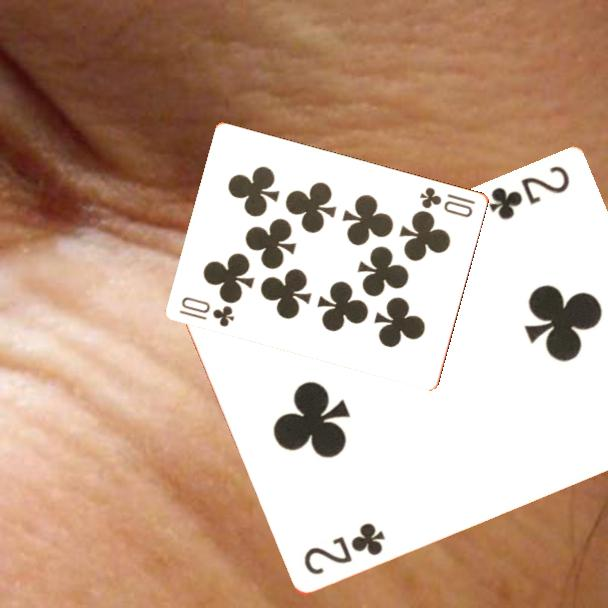c02: (485, 163, 573, 224), (300, 519, 388, 579)
c10: (416, 183, 478, 220), (176, 293, 238, 330)
